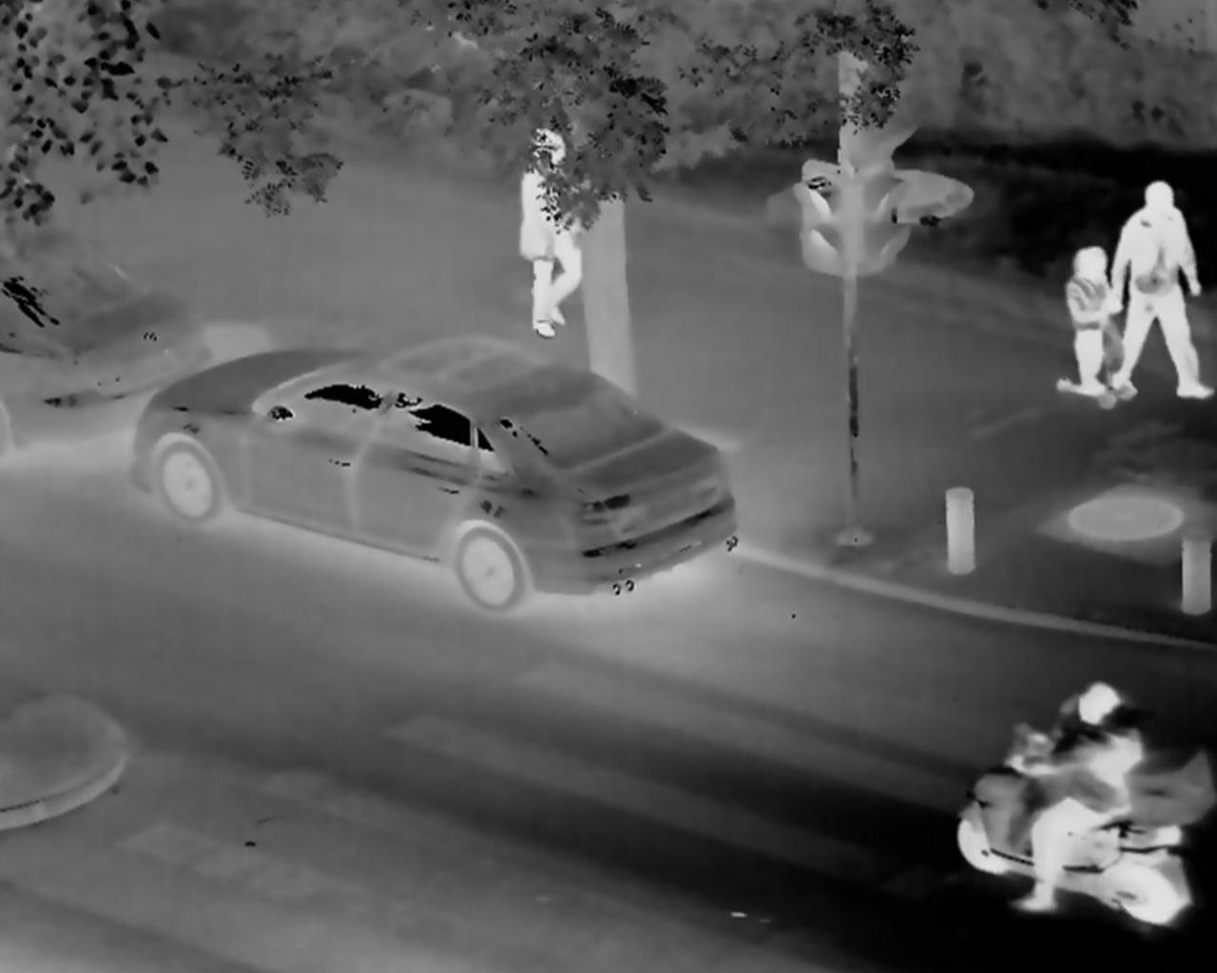person: (1019, 681, 1164, 919), (1107, 169, 1210, 407), (508, 126, 589, 344), (1045, 236, 1123, 413)
